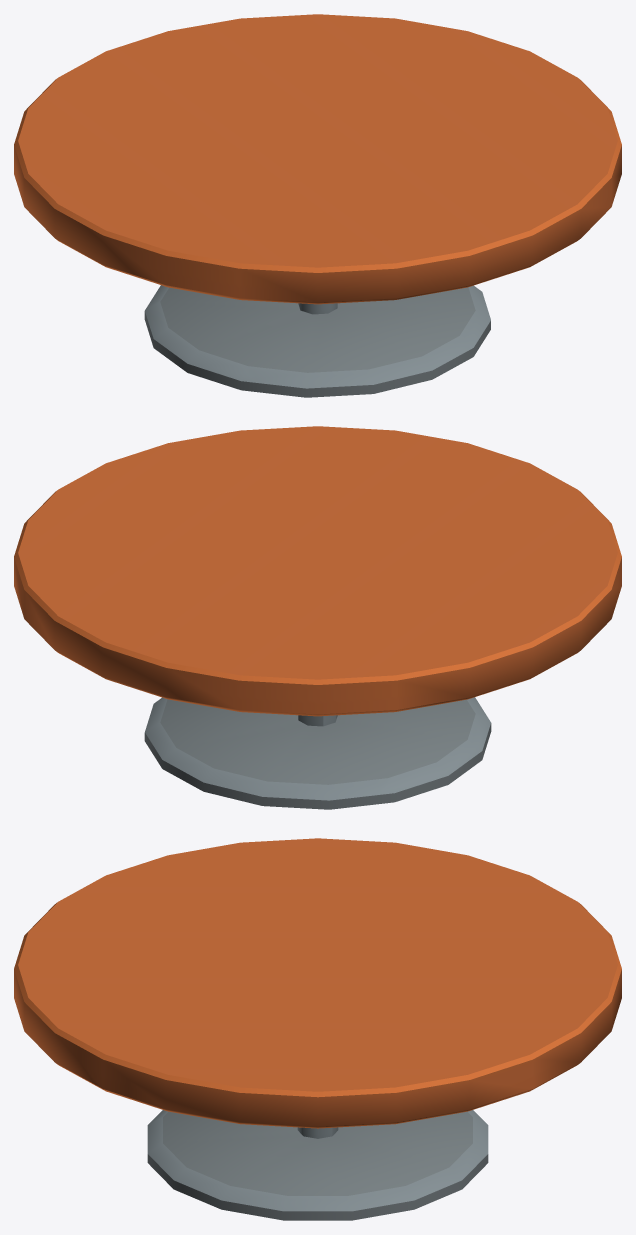
File: kaykit-table-round.glb
3 renders of one model, top to bottom at view 1: azimuth 30°, elevation 25°; view 2: azimuth 150°, elevation 25°; view 3: azimuth 270°, elevation 25°, orthographic.
Parts seen in each view (by area): view 1: table_round_A; view 2: table_round_A; view 3: table_round_A.
Part boxes in pixels (<box>): table_round_A: <box>14,14,621,397</box>; table_round_A: <box>14,426,621,809</box>; table_round_A: <box>14,838,621,1220</box>.
Bounding box in the file's own units: 3 × 0.9999 × 3.
1 material, 1 textured.
